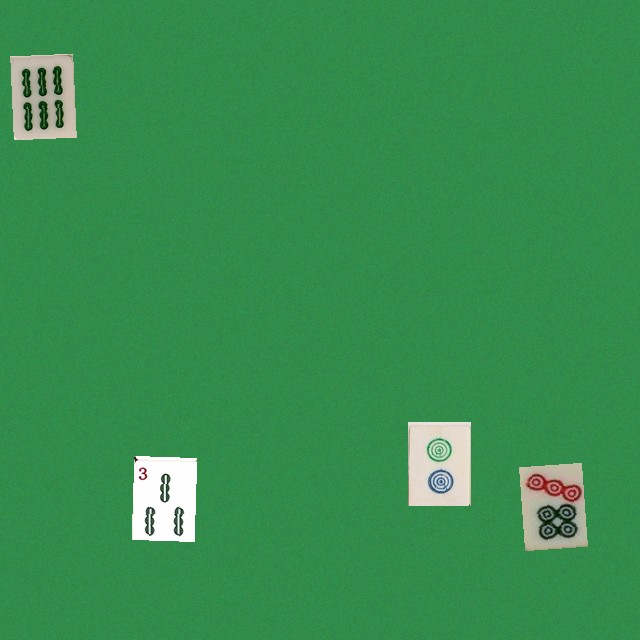tile: (10, 53, 73, 137), (519, 462, 582, 546), (407, 421, 470, 505), (131, 455, 194, 539)
